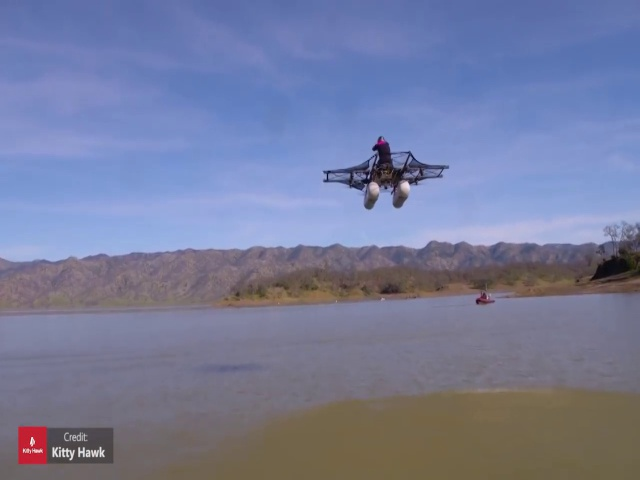drone: (323, 149, 451, 210)
